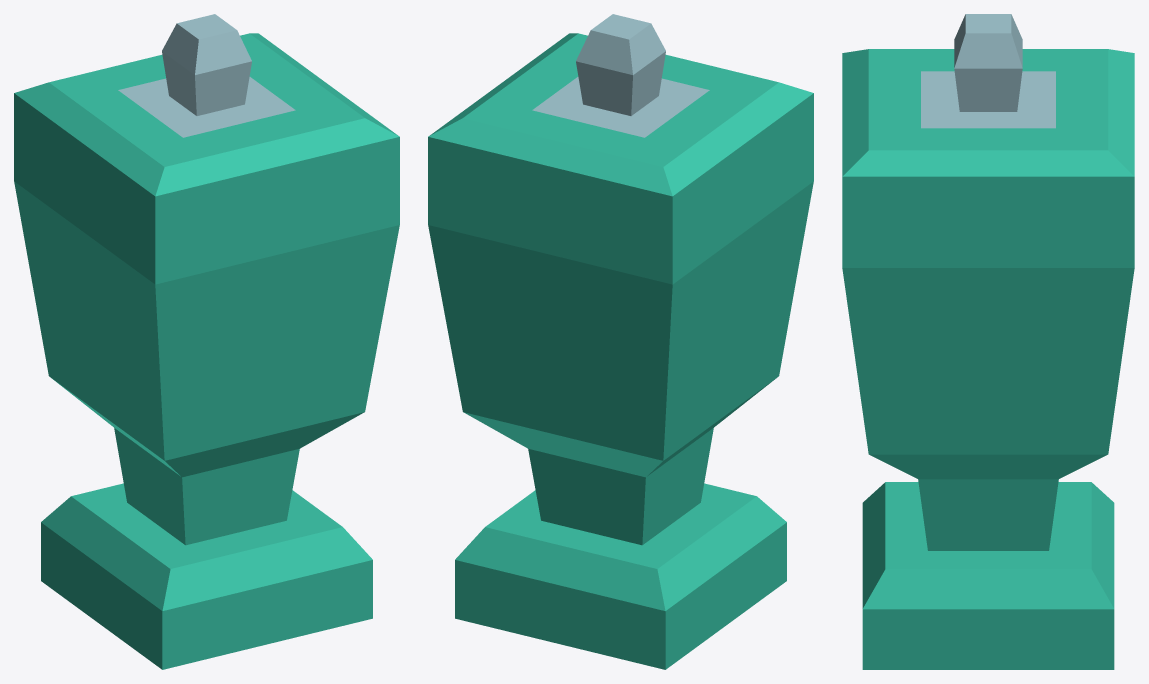
File: urn.dae
The picture shows the model from 3 angles, left to right: view 1: azimuth 30°, elevation 25°; view 2: azimuth 150°, elevation 25°; view 3: azimuth 270°, elevation 25°; orthographic projection. The views are drawn at different scales.
Parts seen in each view (by area): view 1: urn, lid; view 2: urn, lid; view 3: urn, lid.
Boxes of the visible parts, x1,y1,x2,y2 form: urn: [14, 122, 399, 669]; lid: [14, 14, 399, 225]; urn: [428, 122, 813, 669]; lid: [428, 14, 813, 225]; urn: [842, 207, 1134, 669]; lid: [842, 14, 1134, 206].
Size of the model in its own units: 0.1742 by 0.39 by 0.1742.
